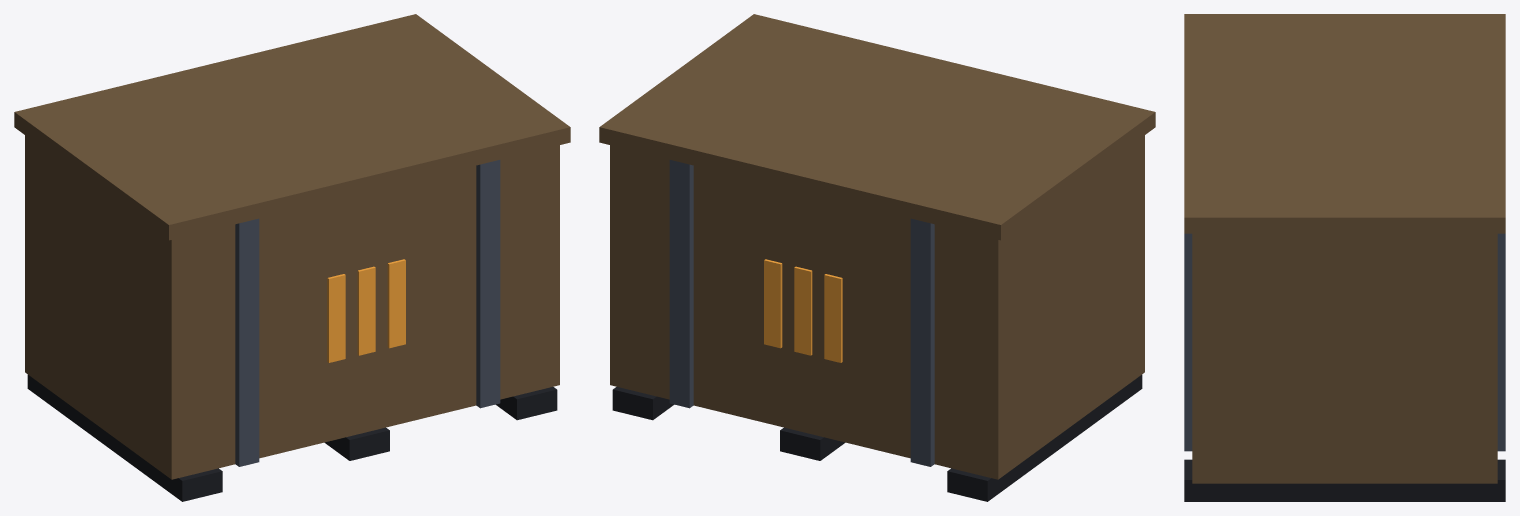
File: Crate.glb
3 renders of one model, left to right at view 1: azimuth 30°, elevation 25°; view 2: azimuth 150°, elevation 25°; view 3: azimuth 270°, elevation 25°, orthographic. The views are drawn at different scales.
Parts seen in each view (by area): view 1: Timber, Steel, Dark, Accent; view 2: Timber, Steel, Dark, Accent; view 3: Timber, Dark, Steel.
Boxes of the visible parts, left/top/right/bottom form: Timber: left=14, top=14, right=570, bottom=479; Steel: left=235, top=160, right=500, bottom=466; Dark: left=27, top=374, right=557, bottom=501; Accent: left=327, top=259, right=405, bottom=362; Timber: left=599, top=14, right=1155, bottom=479; Steel: left=669, top=160, right=934, bottom=466; Dark: left=612, top=374, right=1142, bottom=501; Accent: left=764, top=259, right=842, bottom=362; Timber: left=1184, top=14, right=1505, bottom=483; Dark: left=1184, top=459, right=1505, bottom=501; Steel: left=1184, top=233, right=1505, bottom=451.
Bounding box in the file's own units: 6 × 4 × 4.
